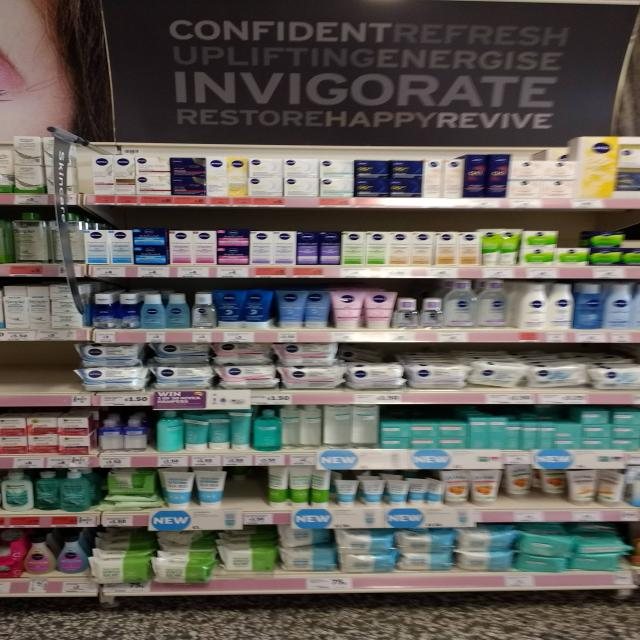void: (34, 341, 78, 410), (224, 466, 266, 529), (0, 342, 34, 412)
